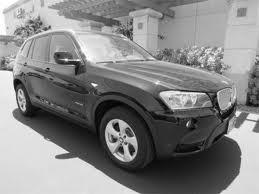car: (13, 29, 239, 174)
